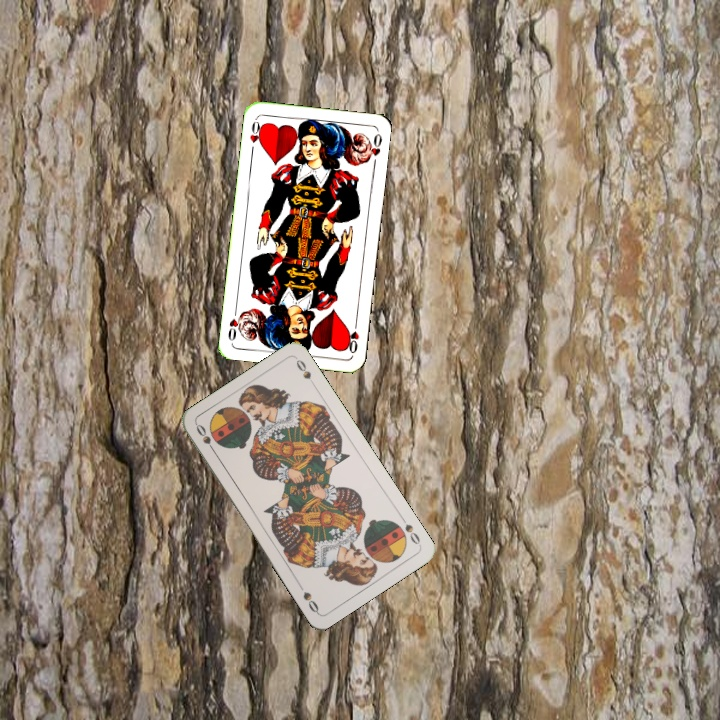HO: (246, 115, 265, 156), (343, 316, 362, 356)
SO: (192, 420, 219, 457), (397, 512, 423, 548)
